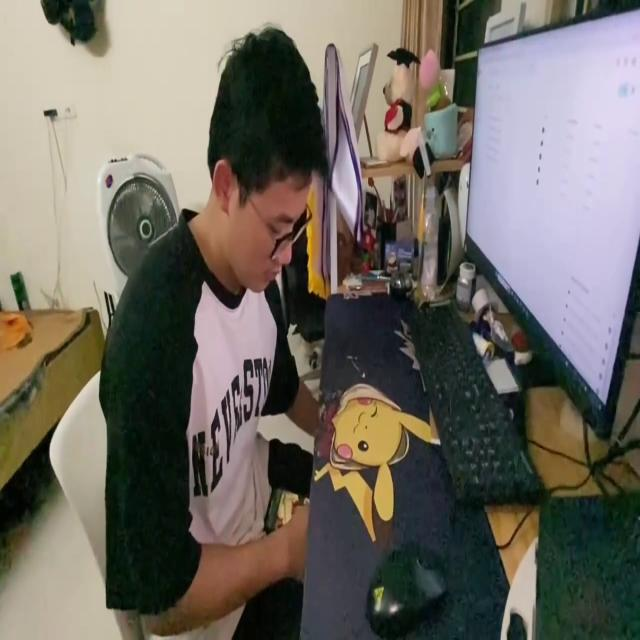laptop: (460, 1, 640, 452)
phone: (266, 485, 309, 535)
student: (96, 24, 322, 636)
